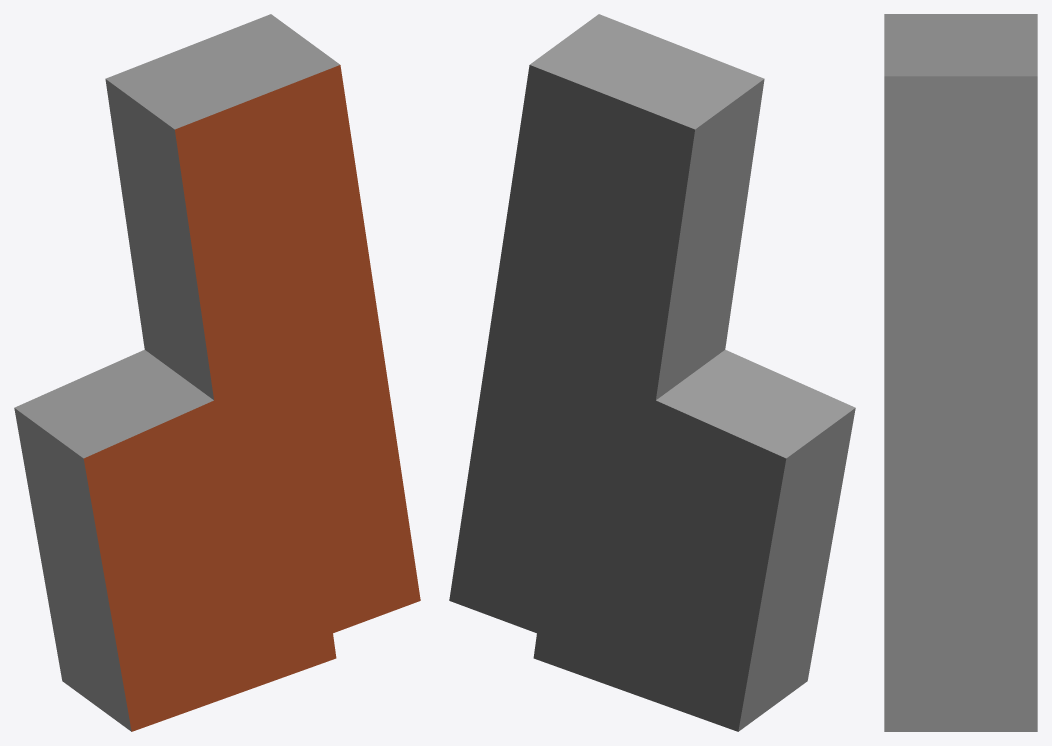
The model's file is construction_5427_assumed_A_Casa_h6m.obj.
3 views of the same model, side by side, from view 1: azimuth 30°, elevation 25°; view 2: azimuth 150°, elevation 25°; view 3: azimuth 270°, elevation 25° (orthographic). The views are drawn at different scales.
Parts seen in each view (by area): view 1: construction_5427_assumed_A_Casa; view 2: construction_5427_assumed_A_Casa; view 3: construction_5427_assumed_A_Casa.
Boxes of the visible parts, bbox=[...] form: construction_5427_assumed_A_Casa: bbox=[14, 14, 420, 731]; construction_5427_assumed_A_Casa: bbox=[449, 14, 855, 731]; construction_5427_assumed_A_Casa: bbox=[884, 14, 1037, 731].
Bounding box in the file's own units: 16.82 × 29.39 × 6.
